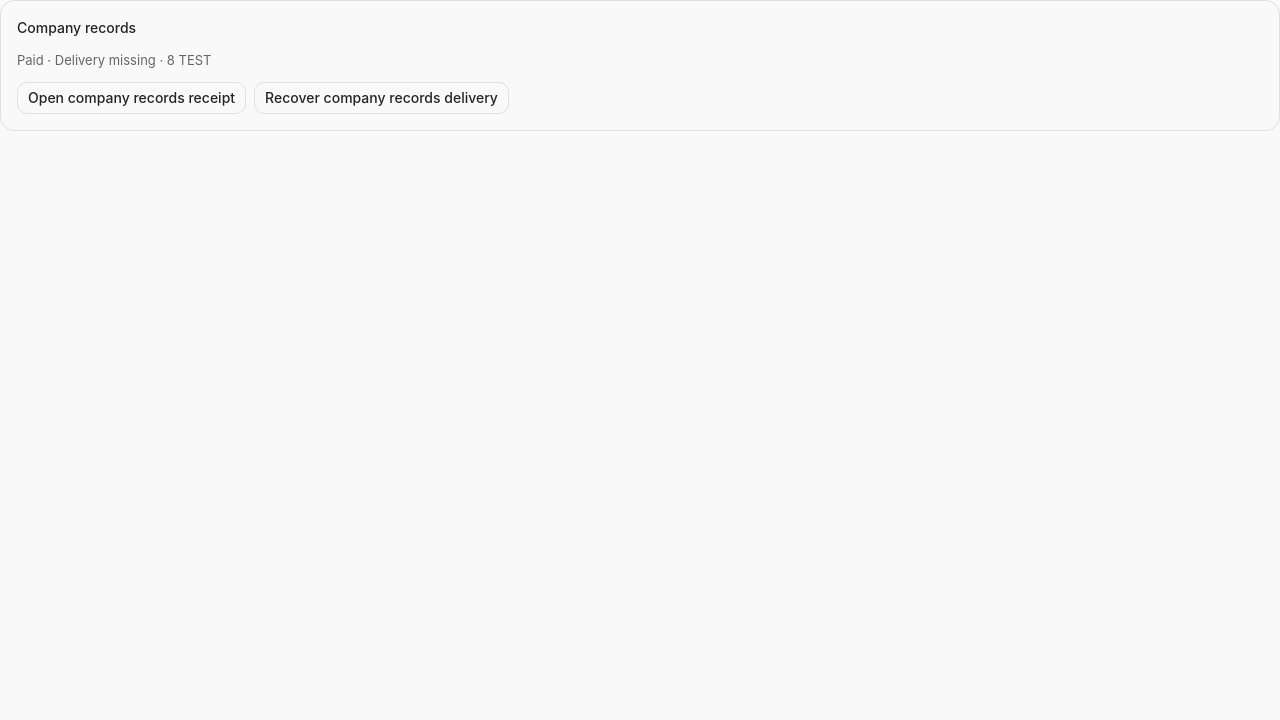
Test: F3 receipt presents missing as Awaiting data without changing payment or order identity
The image size is (1280, 720).
Click the button "Open company records receipt" at (132, 98), box [17,82,246,114]
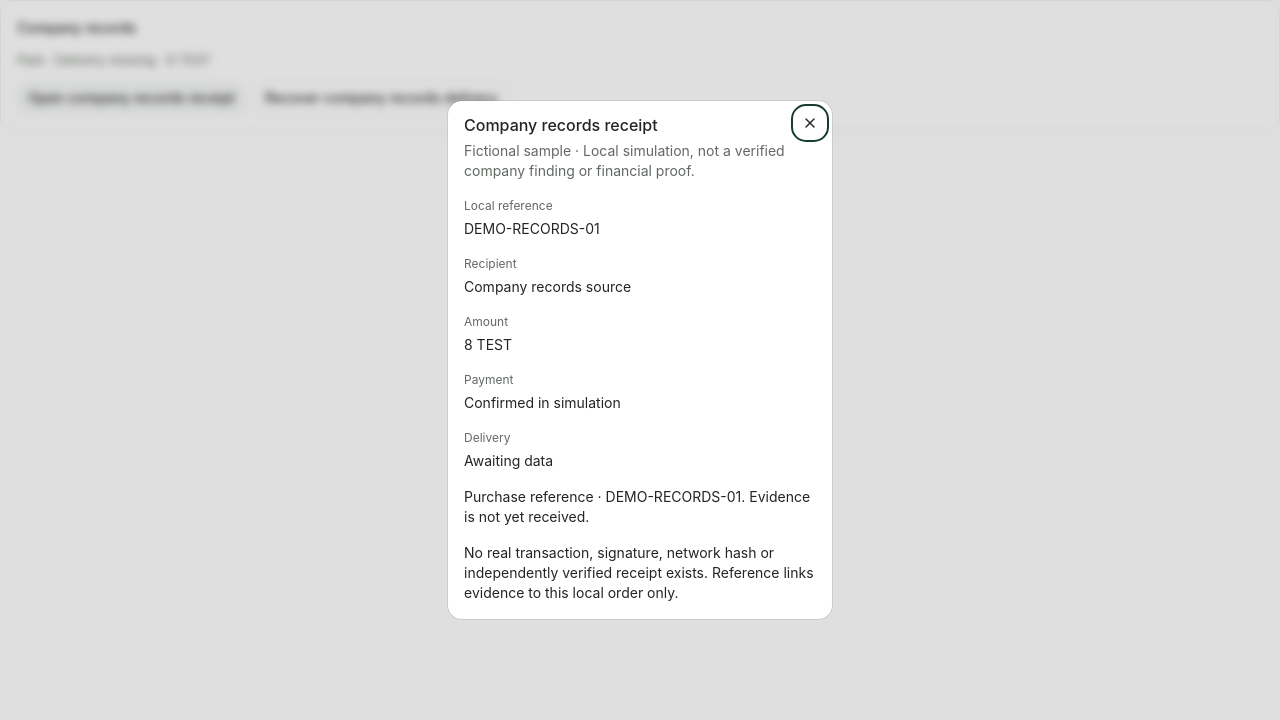
Check: the text "DEMO-RECORDS-01" is shown, box [464,220,600,237]
Check: the text "8 TEST" is shown, box [464,336,512,353]
Check: the text "Confirmed in simulation" is shown, box [464,394,621,411]
